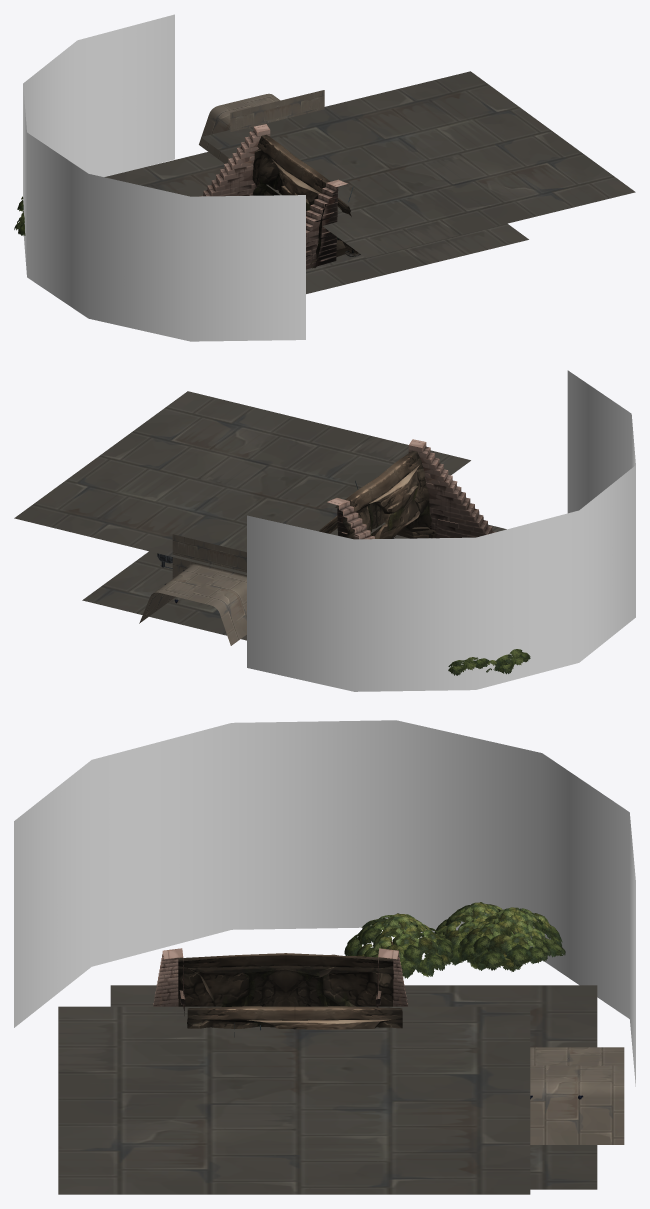
Rendered from env_yav_hangar_int_01_pre.glb.
The picture shows the model from 3 angles, top to bottom: view 1: azimuth 30°, elevation 25°; view 2: azimuth 150°, elevation 25°; view 3: azimuth 270°, elevation 25°; orthographic projection. The views are drawn at different scales.
Parts seen in each view (by area): view 1: skybox_half_mesh, ceiling, main_floor, temple_stairs_mesh, temple_wall_01_mesh (1), hoth_ice_hangar_mesh; view 2: skybox_half_mesh, ceiling, hoth_ice_hangar_mesh, temple_wall_01_mesh (1), main_floor, temple_stairs_mesh, gen_tree_01_mesh (2), gen_tree_01_mesh; view 3: skybox_half_mesh, ceiling, main_floor, temple_wall_01_mesh (1), hoth_ice_hangar_mesh, temple_wall_01_mesh, gen_tree_01_mesh, gen_tree_01_mesh (1), temple_stairs_mesh, gen_tree_01_mesh (2).
Boxes of the visible parts, box(x1,y1,x2,y2) form: skybox_half_mesh: box(23, 14, 305, 341); ceiling: box(201, 71, 635, 257); main_floor: box(104, 152, 528, 293); temple_stairs_mesh: box(199, 124, 347, 269); temple_wall_01_mesh (1): box(252, 134, 345, 268); hoth_ice_hangar_mesh: box(199, 90, 324, 163); skybox_half_mesh: box(247, 370, 635, 691); ceiling: box(14, 391, 470, 574); hoth_ice_hangar_mesh: box(139, 534, 246, 645); temple_wall_01_mesh (1): box(335, 450, 437, 539); main_floor: box(82, 524, 506, 640); temple_stairs_mesh: box(327, 439, 495, 539); gen_tree_01_mesh (2): box(486, 649, 530, 674); gen_tree_01_mesh: box(448, 657, 496, 675); skybox_half_mesh: box(14, 720, 635, 1086); ceiling: box(58, 1006, 530, 1194); main_floor: box(110, 985, 597, 1189); temple_wall_01_mesh (1): box(178, 953, 393, 1006); hoth_ice_hangar_mesh: box(530, 1047, 624, 1144); temple_wall_01_mesh: box(187, 1006, 402, 1029); gen_tree_01_mesh: box(458, 907, 565, 971); gen_tree_01_mesh (1): box(344, 913, 453, 978); temple_stairs_mesh: box(153, 948, 407, 1015); gen_tree_01_mesh (2): box(424, 902, 520, 969).
Size of the model in its own units: 170 by 47.88 by 130.
Materials: 25 (25 with a texture image).
